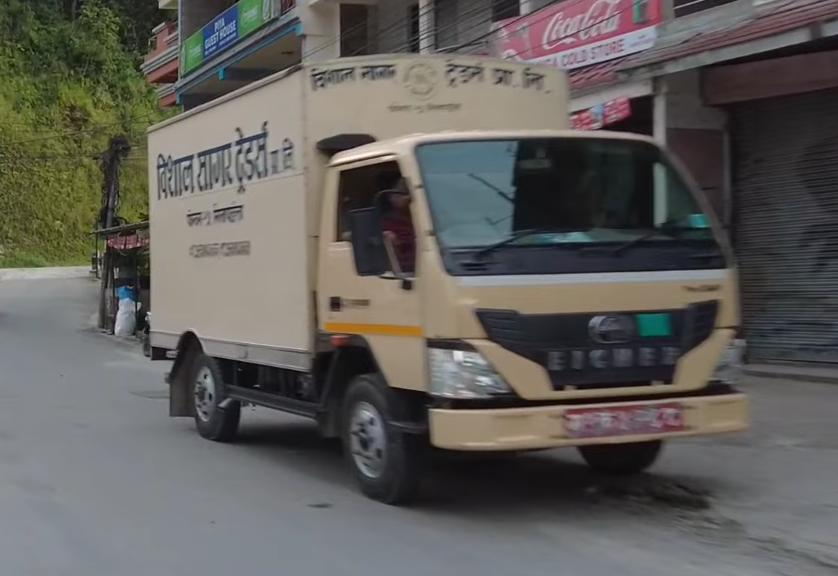mini_truck: (136, 39, 748, 504)
